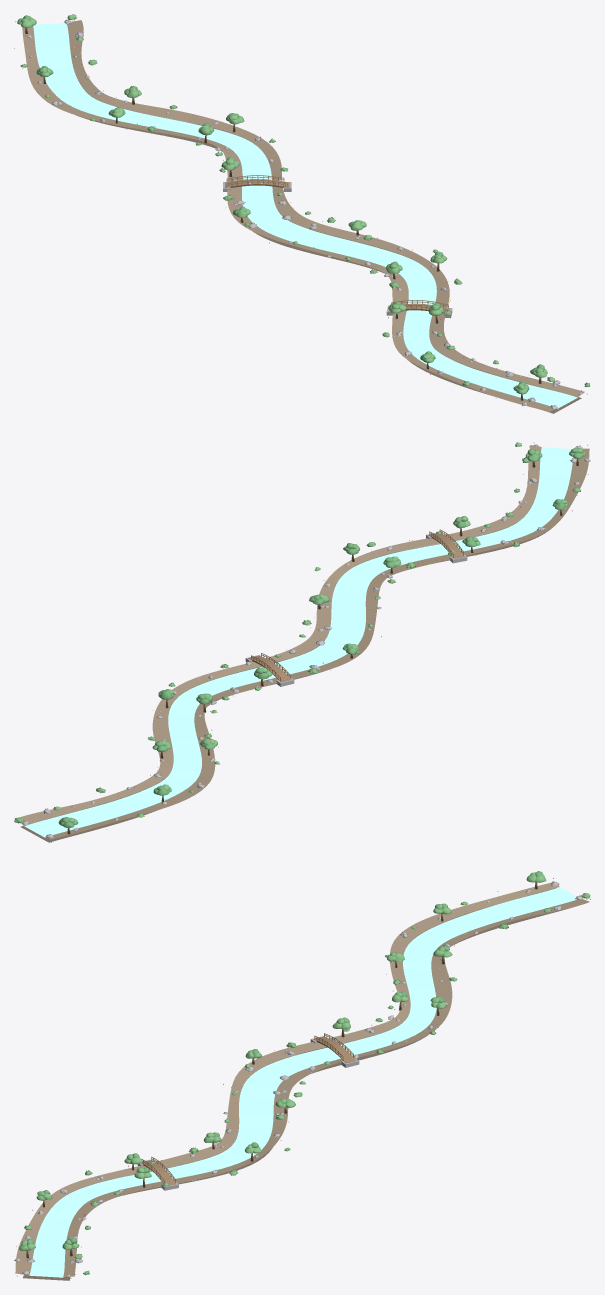
Rendered from sungai-blender-v4.glb.
3 renders of one model, top to bottom at view 1: azimuth 30°, elevation 25°; view 2: azimuth 150°, elevation 25°; view 3: azimuth 330°, elevation 25°, orthographic.
Visible parts, largest first — view 1: sungai_water, sungai_bank_left, sungai_bank_right, sungai_tree_leaves, sungai_bed, sungai_rocks, sungai_bushes, sungai_bridge_1_wood; view 2: sungai_water, sungai_bank_left, sungai_bank_right, sungai_tree_leaves, sungai_bed, sungai_rocks, sungai_bushes; view 3: sungai_water, sungai_bank_right, sungai_bank_left, sungai_tree_leaves, sungai_bed, sungai_rocks, sungai_bushes.
Part boxes in pixels (x1,y1,x2,y2): sungai_water: (33, 23, 577, 408); sungai_bank_left: (67, 20, 584, 396); sungai_bank_right: (22, 26, 554, 411); sungai_tree_leaves: (17, 15, 547, 394); sungai_bed: (71, 58, 581, 413); sungai_rocks: (27, 19, 582, 409); sungai_bushes: (20, 14, 590, 386); sungai_bridge_1_wood: (225, 175, 289, 187); sungai_water: (24, 447, 573, 837); sungai_bank_left: (19, 445, 541, 825); sungai_bank_right: (45, 448, 589, 839); sungai_tree_leaves: (58, 448, 585, 827); sungai_bed: (20, 481, 552, 842); sungai_rocks: (22, 444, 590, 838); sungai_bushes: (14, 442, 580, 823); sungai_water: (29, 887, 576, 1277); sungai_bank_right: (15, 882, 559, 1275); sungai_bank_left: (63, 899, 589, 1277); sungai_tree_leaves: (19, 871, 546, 1250); sungai_bed: (23, 888, 572, 1280); sungai_rocks: (14, 881, 582, 1276); sungai_bushes: (24, 893, 590, 1275).
Bounding box in the file's own units: 37.16 × 5.87 × 248.
